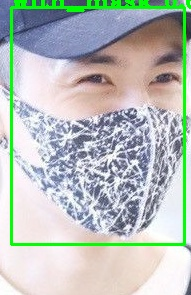with_mask: (4, 13, 191, 236)
